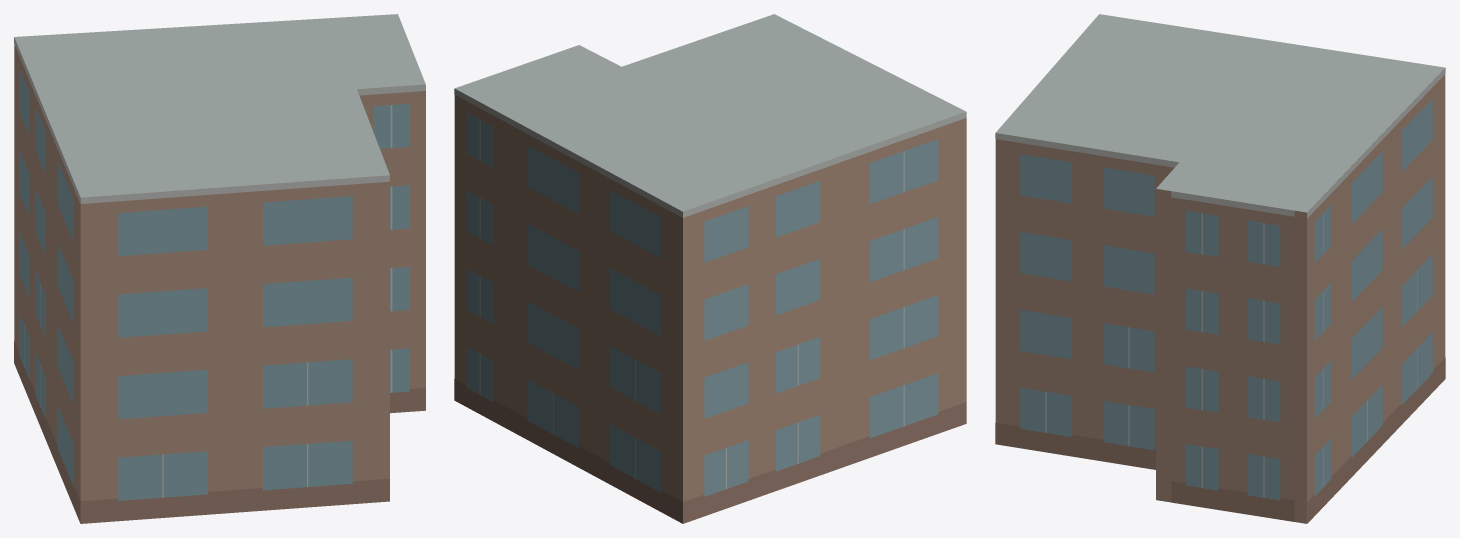
File: survey-upis-32569443.glb
3 views of the same model, side by side, from view 1: azimuth 30°, elevation 25°; view 2: azimuth 150°, elevation 25°; view 3: azimuth 270°, elevation 25° (orthographic). The views are drawn at different scales.
Visible parts, largest first — view 1: survey-upis-32569443.tmp; view 2: survey-upis-32569443.tmp; view 3: survey-upis-32569443.tmp.
Boxes of the visible parts, x1,y1,x2,y2 form: survey-upis-32569443.tmp: [14, 14, 425, 523]; survey-upis-32569443.tmp: [454, 14, 966, 523]; survey-upis-32569443.tmp: [995, 14, 1445, 523].
Size of the model in its own units: 16.97 by 12.4 by 16.25.
